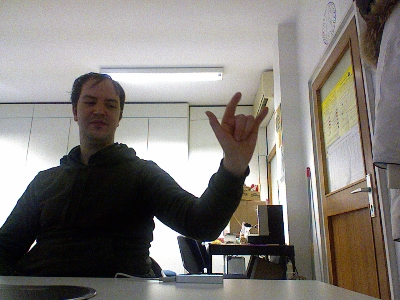我爱你: (204, 90, 269, 159)
